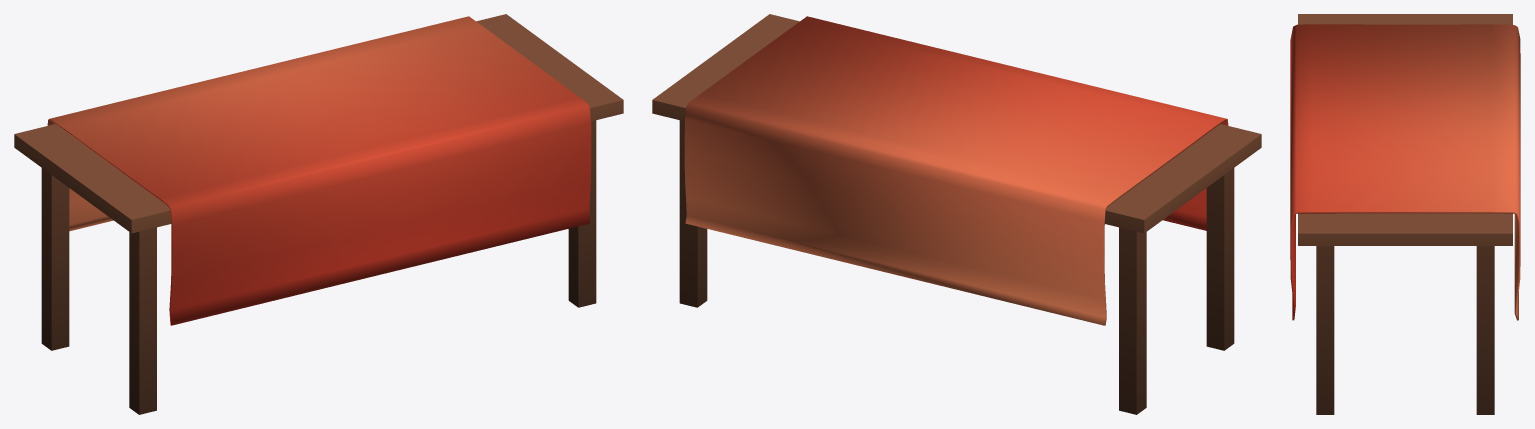
File: MejaJualan2.fbx
3 renders of one model, left to right at view 1: azimuth 30°, elevation 25°; view 2: azimuth 150°, elevation 25°; view 3: azimuth 270°, elevation 25°, orthographic. The views are drawn at different scales.
Visible parts, largest first — view 1: Cube.066; view 2: Cube.066; view 3: Cube.066.
Part boxes in pixels (x1,y1,x2,y2): Cube.066: [14, 14, 623, 414]; Cube.066: [652, 14, 1261, 414]; Cube.066: [1290, 14, 1520, 414].
Size of the model in its own units: 249 by 103 by 111.
